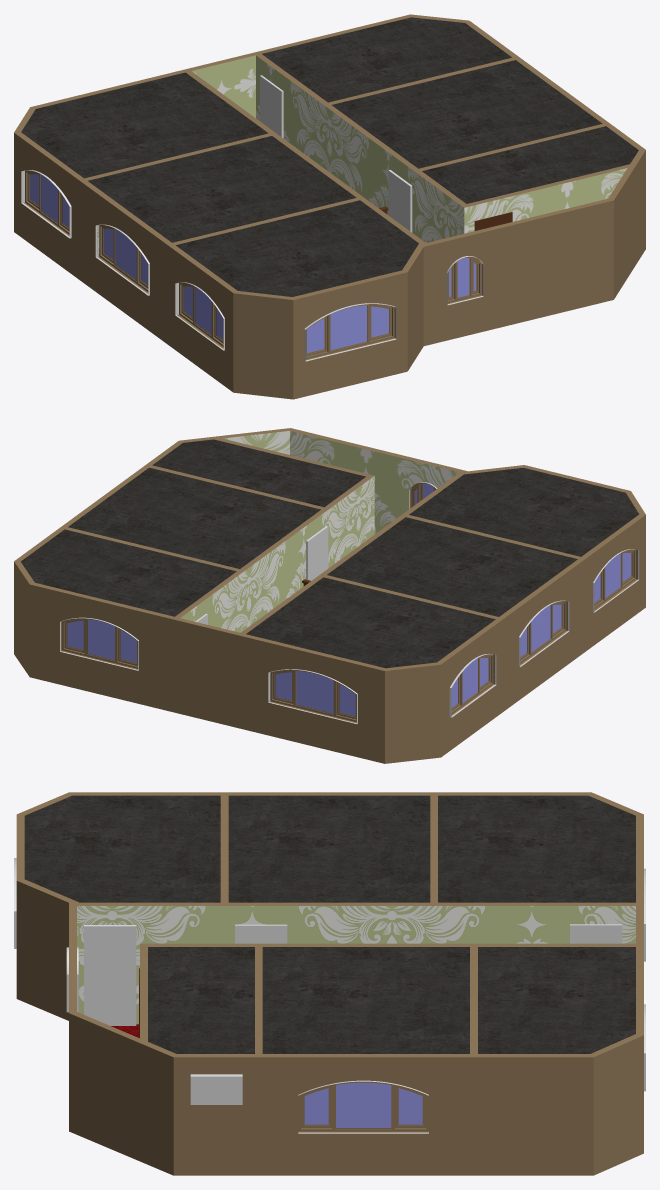
Rendered from Eerste Verdieping 10.fbx.
3 renders of one model, top to bottom at view 1: azimuth 30°, elevation 25°; view 2: azimuth 150°, elevation 25°; view 3: azimuth 270°, elevation 25°, orthographic. The views are drawn at different scales.
Visible parts, largest first — view 1: Walls, Walls.008, Walls.017, Walls.013, Walls.012, Walls.014, Walls.018, Walls.016, Window.006, Window, Window.005, Window.002 (+3 smaller); view 2: Walls, Walls.008, Walls.017, Walls.013, Walls.012, Walls.014, Walls.018, Walls.016, Window.001, Window.003, Window, Window.002 (+2 smaller); view 3: Walls, Walls.017, Walls.013, Walls.012, Walls.014, Walls.008, Walls.018, Walls.016, Window.004, CTRL_Hole.002, CTRL_Hole.011, CTRL_Hole (+1 smaller).
Boxes of the visible parts, x1=… form: Walls: x1=14, y1=14, x2=645, y2=399; Walls.008: x1=191, y1=55, x2=627, y2=242; Walls.017: x1=332, y1=60, x2=602, y2=168; Walls.013: x1=88, y1=136, x2=356, y2=242; Walls.012: x1=21, y1=72, x2=268, y2=178; Walls.014: x1=176, y1=200, x2=418, y2=296; Walls.018: x1=262, y1=17, x2=511, y2=102; Walls.016: x1=422, y1=126, x2=638, y2=203; Window.006: x1=305, y1=304, x2=394, y2=359; Window: x1=99, y1=225, x2=148, y2=291; Window.005: x1=179, y1=282, x2=223, y2=346; Window.002: x1=25, y1=170, x2=69, y2=234; Walls: x1=14, y1=428, x2=645, y2=763; Walls.008: x1=180, y1=431, x2=459, y2=632; Walls.017: x1=68, y1=467, x2=320, y2=568; Walls.013: x1=327, y1=517, x2=577, y2=616; Walls.012: x1=246, y1=577, x2=495, y2=668; Walls.014: x1=409, y1=467, x2=639, y2=556; Walls.018: x1=21, y1=529, x2=236, y2=616; Walls.016: x1=152, y1=439, x2=365, y2=507; Window.001: x1=270, y1=669, x2=356, y2=722; Window.003: x1=62, y1=618, x2=138, y2=668; Window: x1=520, y1=601, x2=566, y2=663; Window.002: x1=451, y1=654, x2=493, y2=714; Walls: x1=16, y1=792, x2=643, y2=1175; Walls.017: x1=262, y1=947, x2=469, y2=1053; Walls.013: x1=228, y1=795, x2=430, y2=902; Walls.012: x1=438, y1=795, x2=635, y2=902; Walls.014: x1=24, y1=795, x2=220, y2=902; Walls.008: x1=77, y1=906, x2=635, y2=1024; Walls.018: x1=478, y1=947, x2=635, y2=1053; Walls.016: x1=148, y1=947, x2=254, y2=1053; Window.004: x1=298, y1=1081, x2=428, y2=1131; CTRL_Hole.002: x1=84, y1=925, x2=136, y2=1025; CTRL_Hole.011: x1=190, y1=1074, x2=242, y2=1104; CTRL_Hole: x1=570, y1=924, x2=622, y2=943.
Bounding box in the file's own units: 1217 × 260 × 1210.
14 materials, 10 textured.
